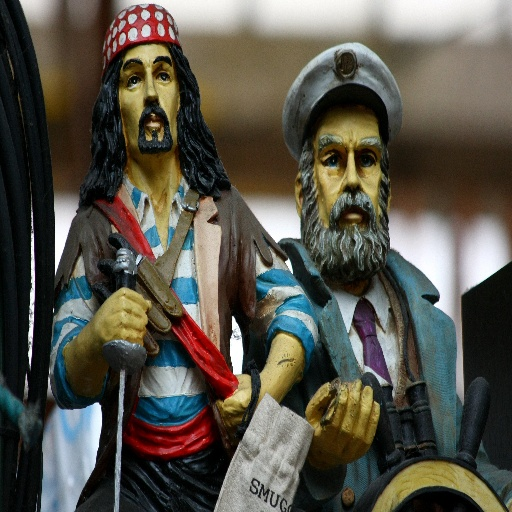hand: (64, 284, 157, 367), (302, 376, 382, 472), (212, 373, 258, 432)
